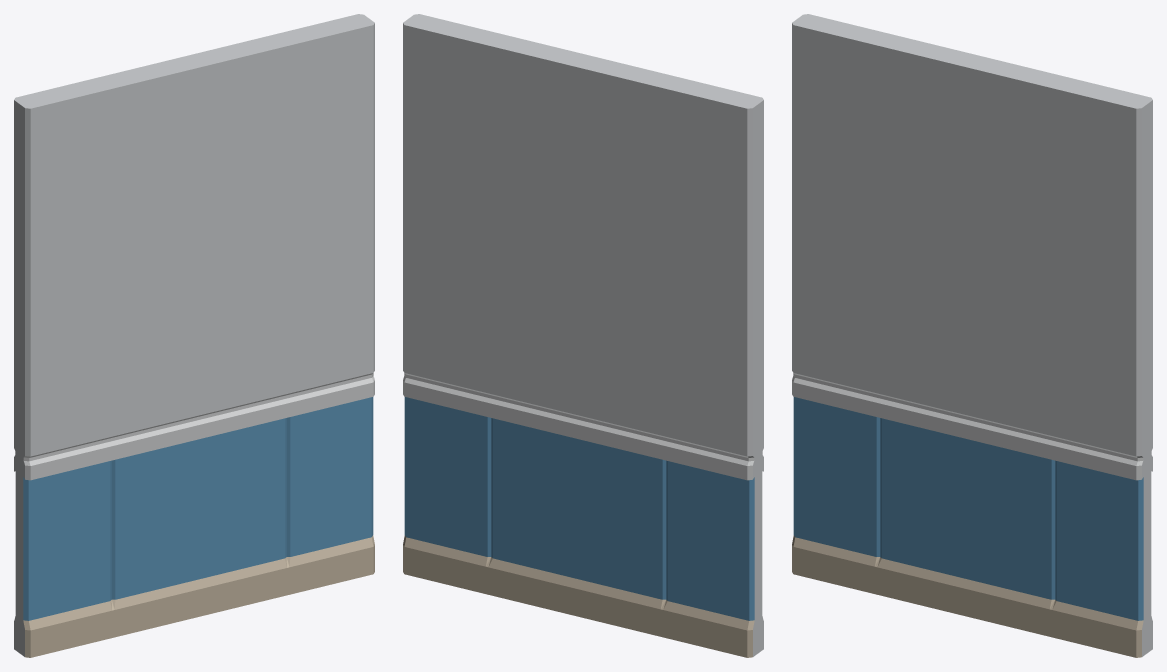
File: clinical-wall-module-935f50.glb
3 renders of one model, left to right at view 1: azimuth 30°, elevation 25°; view 2: azimuth 150°, elevation 25°; view 3: azimuth 330°, elevation 25°, orthographic.
Parts seen in each view (by area): view 1: clinical-wall-module; view 2: clinical-wall-module; view 3: clinical-wall-module.
Part boxes in pixels (left/top/right/bottom): clinical-wall-module: left=14, top=14, right=374, bottom=657; clinical-wall-module: left=403, top=14, right=763, bottom=657; clinical-wall-module: left=792, top=14, right=1152, bottom=657.
Bounding box in the file's own units: 2 × 3 × 0.15.
